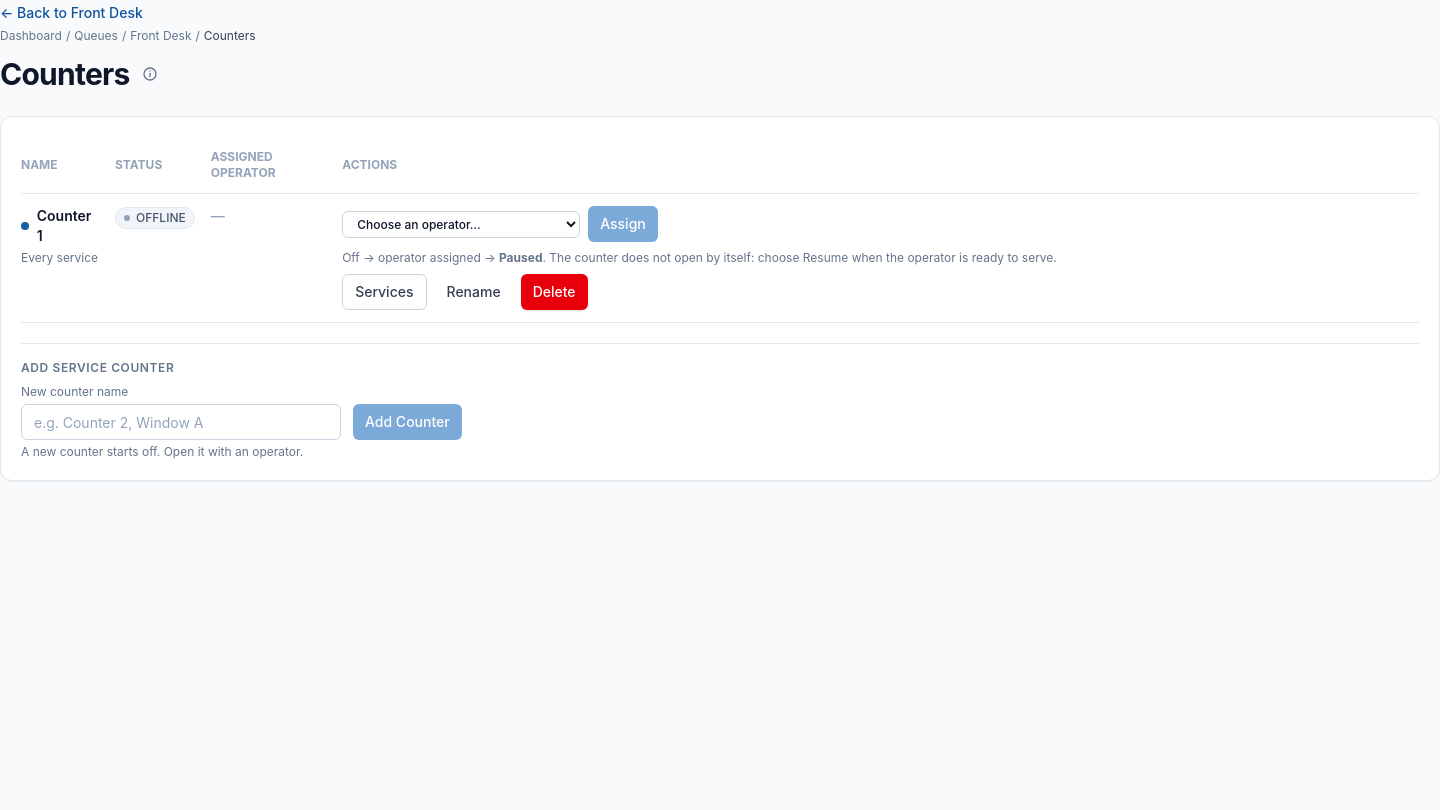
Test case: QueueCountersPage — counter lifecycle (ADR-069) › moving someone onto an OFF counter warns that it becomes Paused
Select "Bilal · Executive — on Counter 2" in the dropdown named "Operator for Counter 1" at coordinates (461, 224), box [342,210,580,238]
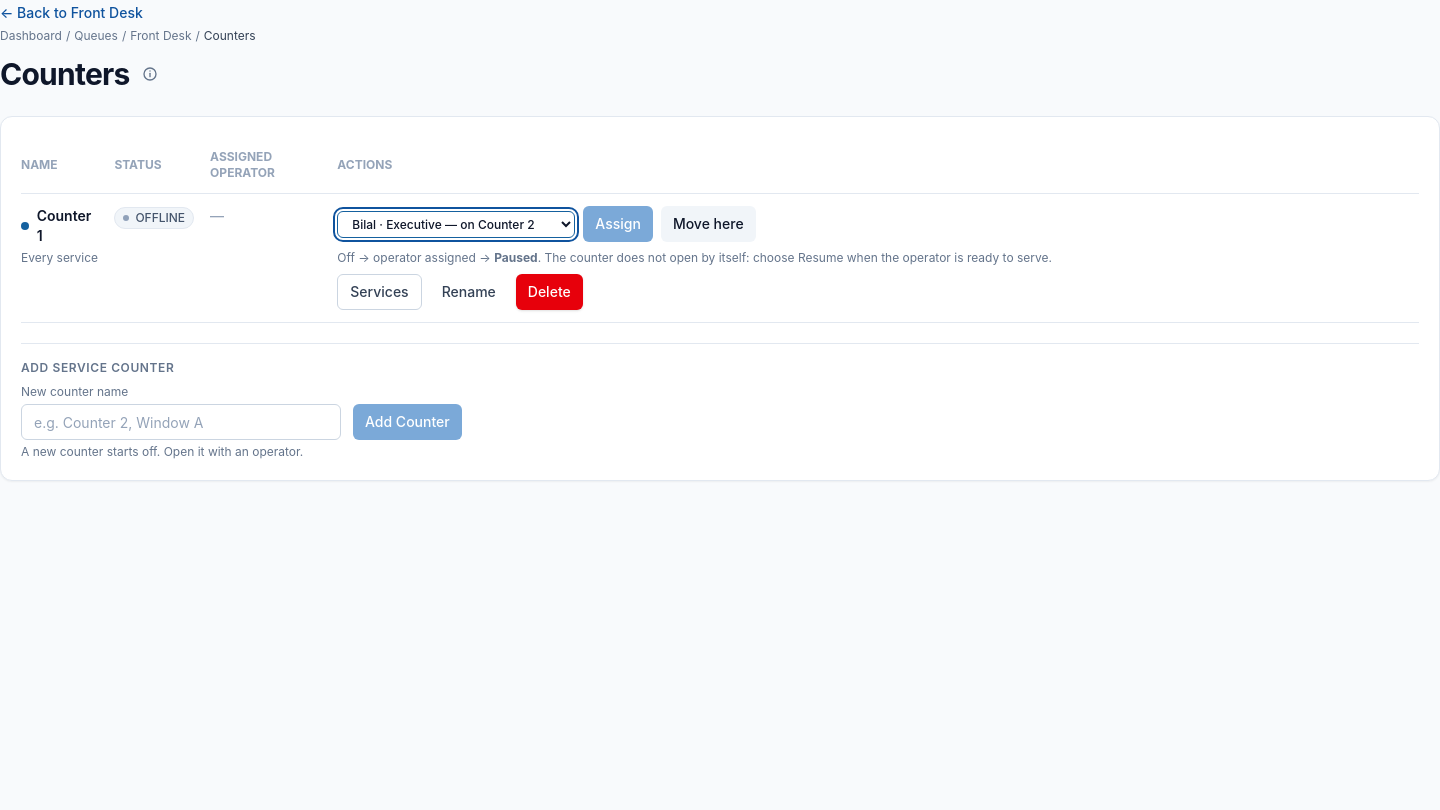
Click the button "Move here" at coordinates (708, 224), box [661,206,756,242]
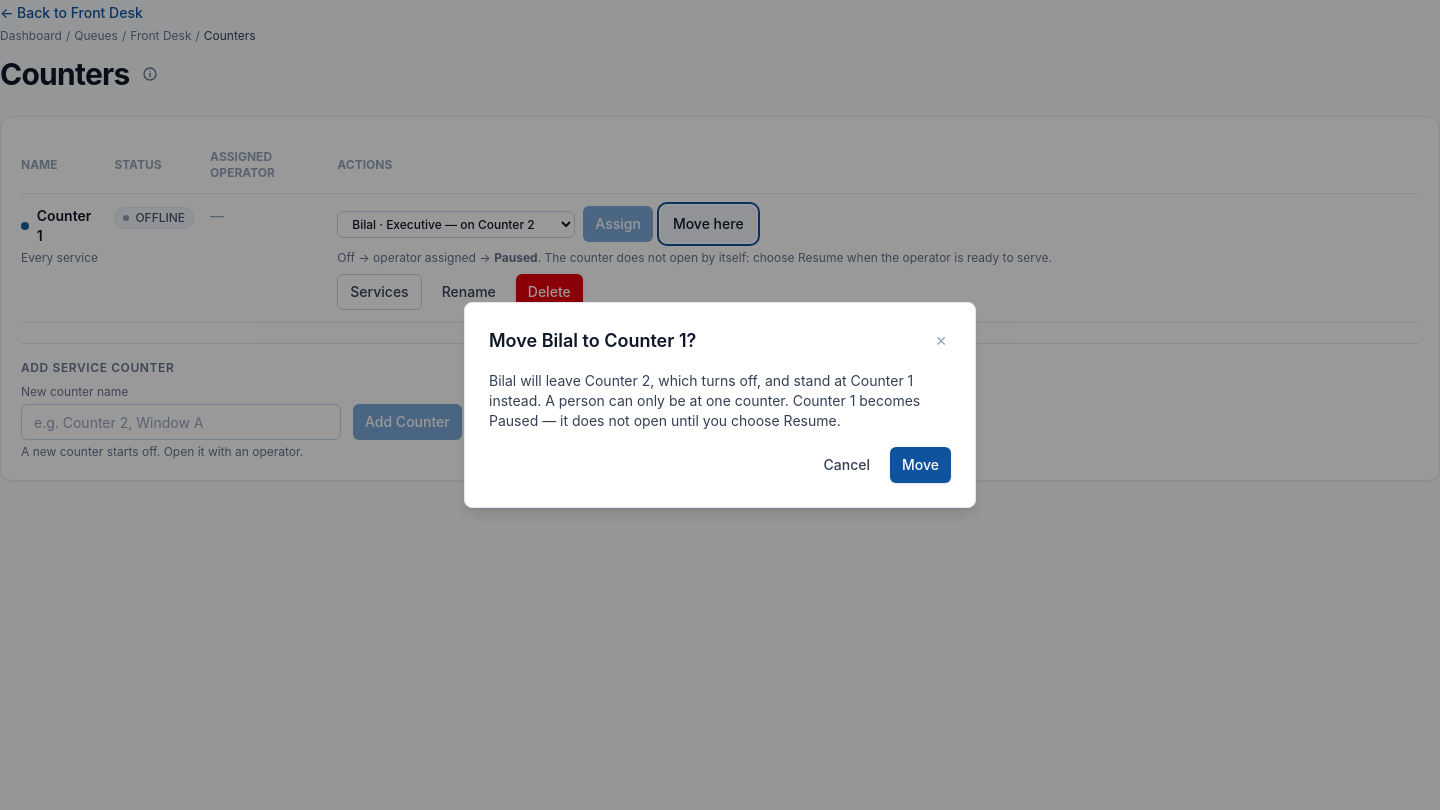
Check: the dialog shows "Counter 1 becomes Paused", box [489,372,920,429]
